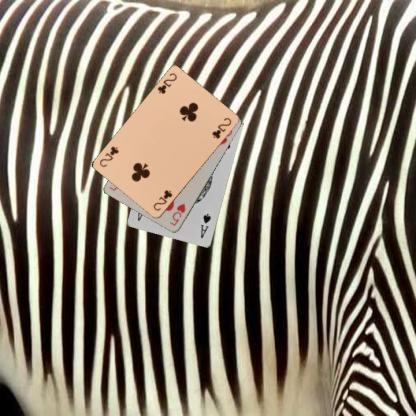2c: (155, 70, 178, 96), (151, 187, 173, 212)
5h: (167, 201, 187, 227)
As: (198, 211, 212, 240)
